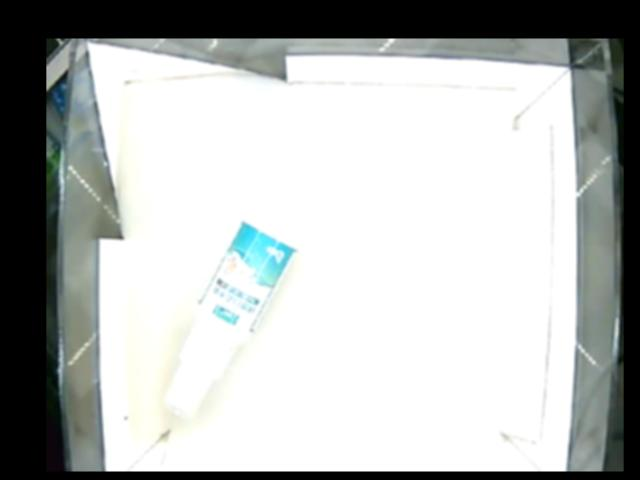Bottle: (161, 214, 298, 420)
